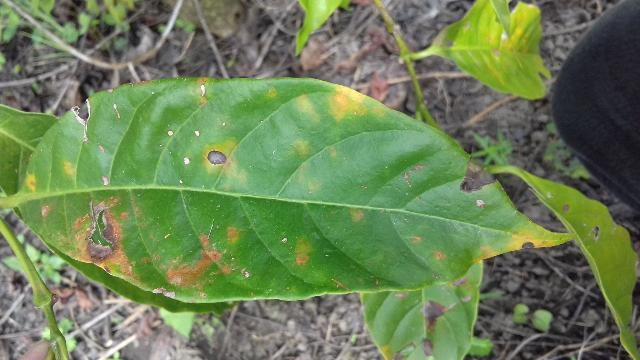rust_level_3: (17, 78, 579, 302)
